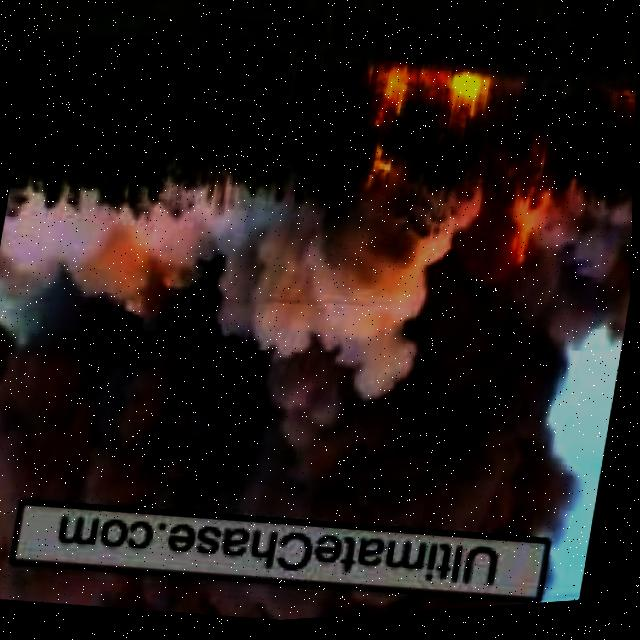Fire: (353, 67, 489, 203), (490, 171, 548, 291), (628, 106, 637, 141)
Smoke: (0, 147, 622, 581), (0, 531, 541, 640), (605, 209, 634, 366)
